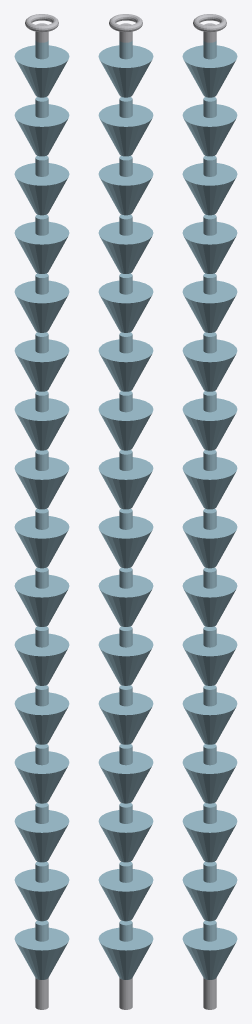
Rendered from Cadena_1980mm.fbx.
The picture shows the model from 3 angles, left to right: view 1: azimuth 90°, elevation 25°; view 2: azimuth 210°, elevation 25°; view 3: azimuth 270°, elevation 25°; orthographic projection.
Visible parts, largest first — view 1: Cadena_1980mm; view 2: Cadena_1980mm; view 3: Cadena_1980mm.
Part boxes in pixels (x1,y1,x2,y2): Cadena_1980mm: (14, 14, 69, 1009); Cadena_1980mm: (98, 14, 153, 1009); Cadena_1980mm: (182, 14, 237, 1009).
Size of the model in its own units: 10 by 198 by 10.
